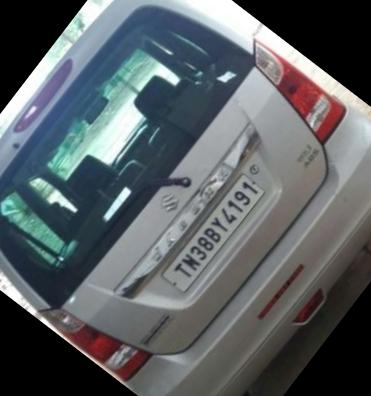plate: (143, 146, 291, 310)
